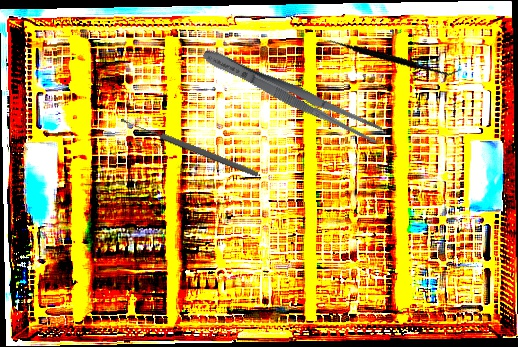Dressing Forceps: (198, 42, 385, 147)
Spatula Surgical: (316, 1, 463, 112)
Surgical Spoon: (119, 115, 260, 179)
